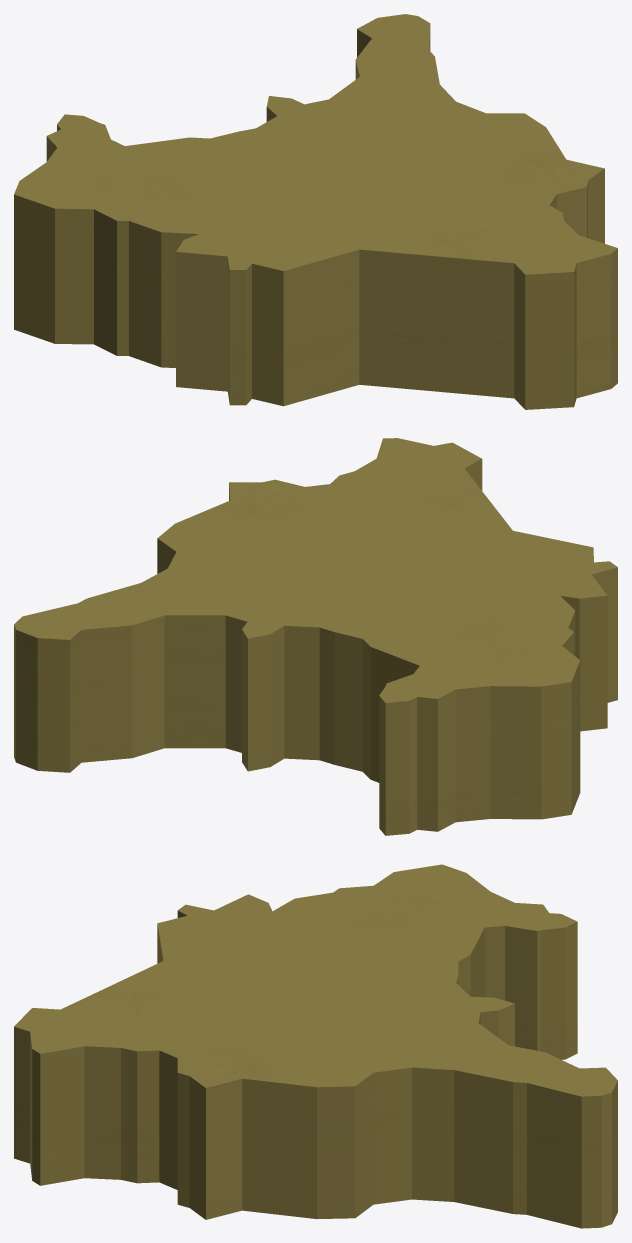
Rendered from poland.DAE.
The picture shows the model from 3 angles, top to bottom: view 1: azimuth 30°, elevation 25°; view 2: azimuth 150°, elevation 25°; view 3: azimuth 270°, elevation 25°; orthographic projection. The views are drawn at different scales.
Parts seen in each view (by area): view 1: Poland; view 2: Poland; view 3: Poland.
Part boxes in pixels (x1,y1,x2,y2): Poland: (14, 14, 617, 409); Poland: (14, 438, 617, 835); Poland: (14, 864, 617, 1228).
Size of the model in its own units: 94.36 by 104 by 25.
1 material, 1 textured.
